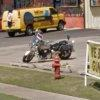Motorcycle: (10, 22, 79, 63)
